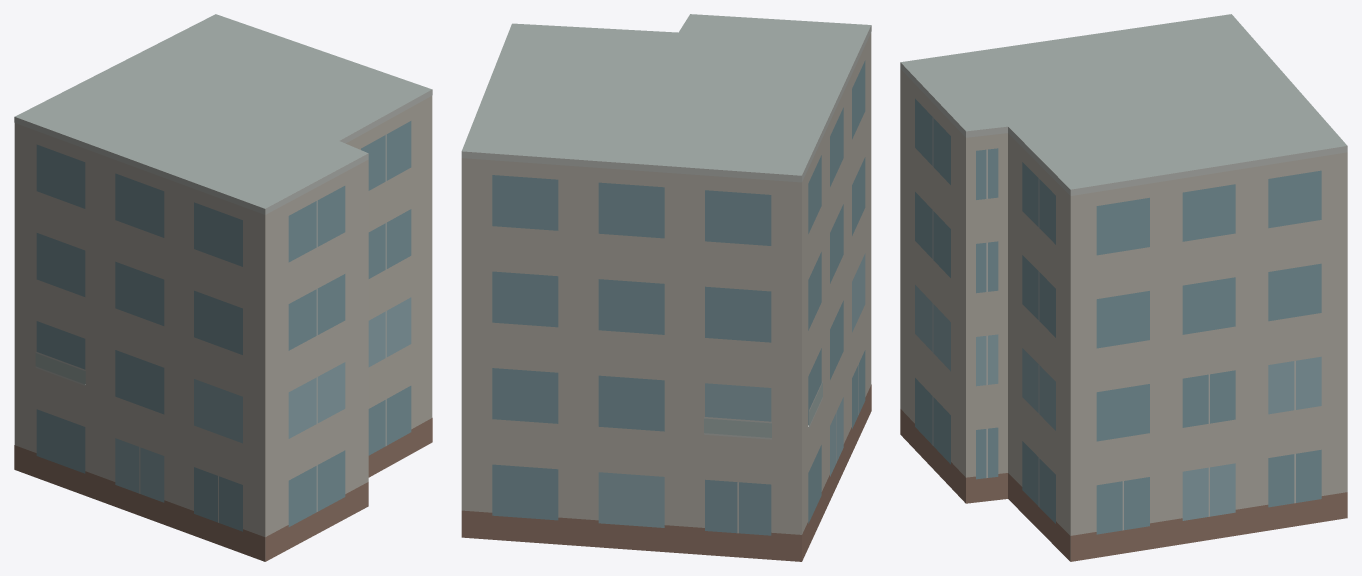
The model's file is survey-upis-32971475.glb.
3 views of the same model, side by side, from view 1: azimuth 30°, elevation 25°; view 2: azimuth 150°, elevation 25°; view 3: azimuth 270°, elevation 25° (orthographic). The views are drawn at different scales.
Visible parts, largest first — view 1: survey-upis-32971475.tmp; view 2: survey-upis-32971475.tmp; view 3: survey-upis-32971475.tmp.
Part boxes in pixels (left/top/right/bottom): survey-upis-32971475.tmp: left=14, top=14, right=432, bottom=561; survey-upis-32971475.tmp: left=461, top=14, right=871, bottom=561; survey-upis-32971475.tmp: left=900, top=14, right=1347, bottom=561.
Size of the model in its own units: 14.28 by 14.1 by 15.36.
